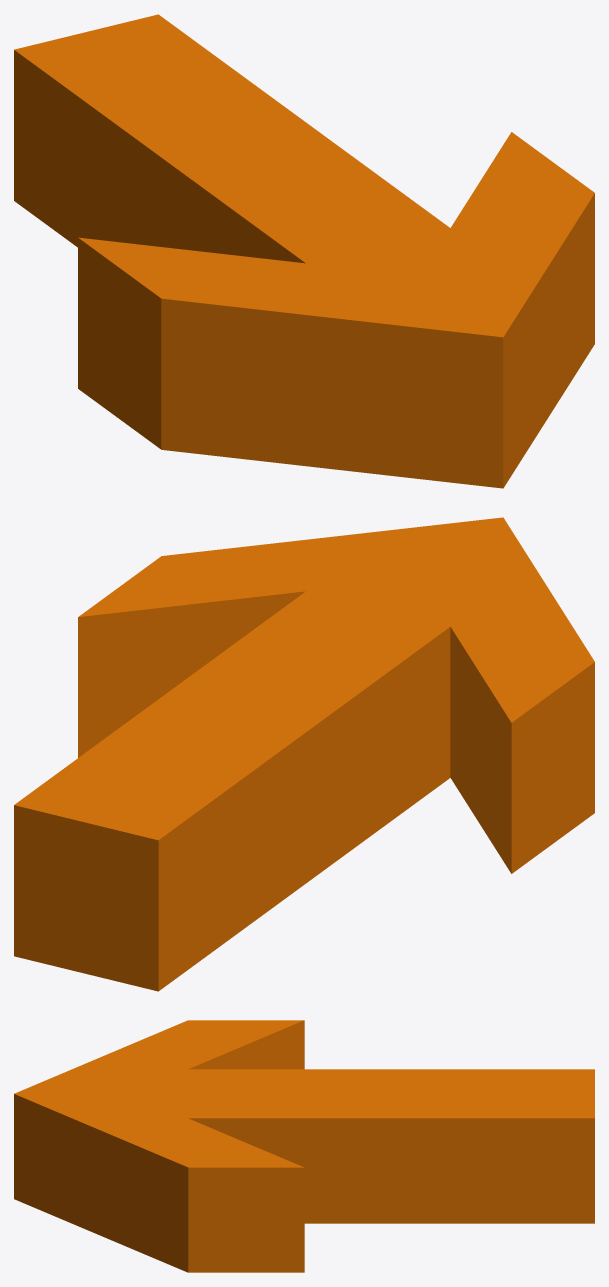
Rendered from Arrow.fbx.
The picture shows the model from 3 angles, top to bottom: view 1: azimuth 30°, elevation 25°; view 2: azimuth 150°, elevation 25°; view 3: azimuth 270°, elevation 25°; orthographic projection. The views are drawn at different scales.
Visible parts, largest first — view 1: pCube1; view 2: pCube1; view 3: pCube1.
Boxes of the visible parts, x1=… form: pCube1: x1=14, y1=14, x2=594, y2=488; pCube1: x1=14, y1=517, x2=594, y2=991; pCube1: x1=14, y1=1020, x2=594, y2=1272.
Size of the model in its own units: 300 by 100 by 500.
